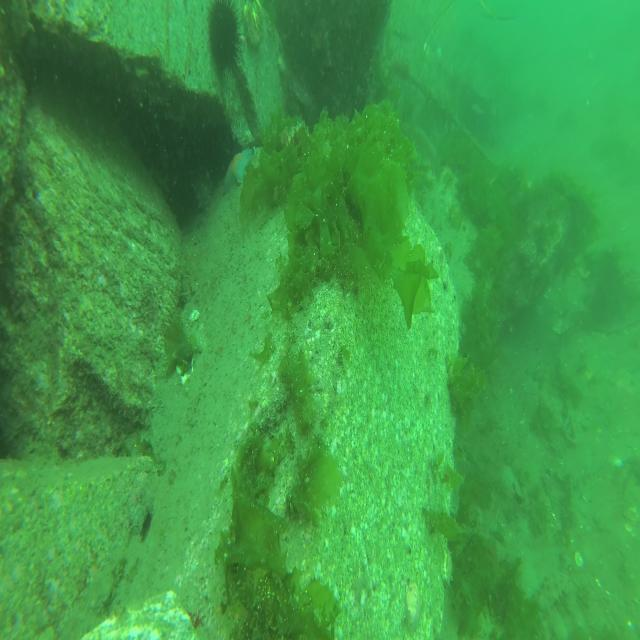echinus: (205, 3, 244, 81)
holothurian: (534, 568, 572, 613)
starfish: (222, 146, 255, 194)
